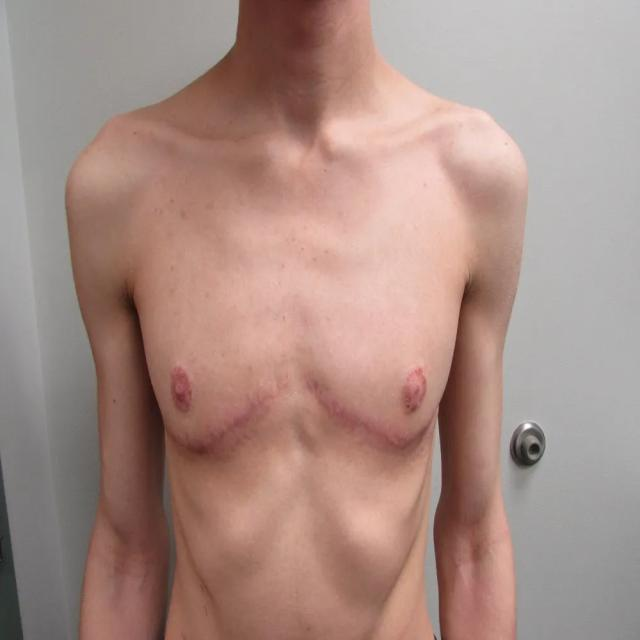Seno herido: (299, 276, 459, 472), (138, 271, 286, 469)
